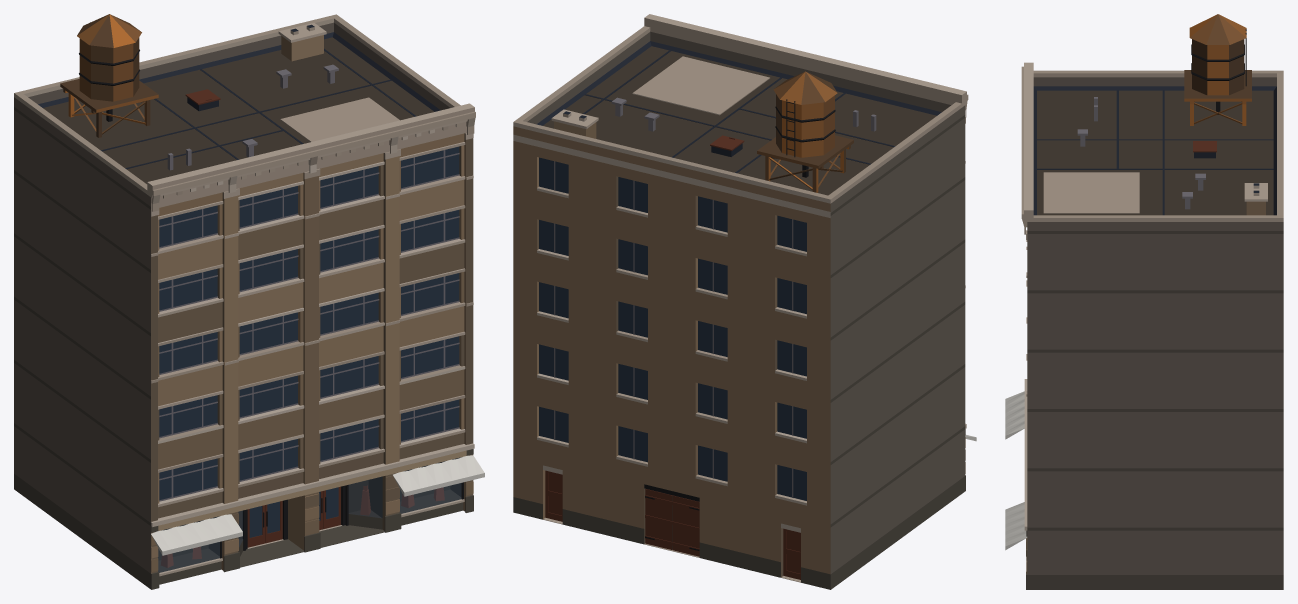
Rendered from department-store-ffbd58.glb.
3 renders of one model, left to right at view 1: azimuth 30°, elevation 25°; view 2: azimuth 150°, elevation 25°; view 3: azimuth 270°, elevation 25°, orthographic. The views are drawn at different scales.
Parts seen in each view (by area): view 1: store, water-tank-timber, awnings-canvas, shop-glass, door-l2-leaf, door-r2-leaf, door-l1-leaf; view 2: store, water-tank-timber; view 3: store, water-tank-timber, awnings-canvas.
Boxes of the visible parts, x1,y1,x2,y2 form: store: (14,14,475,589); water-tank-timber: (60,14,158,137); awnings-canvas: (151,455,484,555); shop-glass: (158,457,461,572); door-l2-leaf: (247,505,264,547); door-r2-leaf: (323,486,340,528); door-l1-leaf: (265,501,282,543); store: (513,14,968,589); water-tank-timber: (757,71,853,192); store: (1021,62,1283,589); water-tank-timber: (1184,14,1251,125); awnings-canvas: (1005,391,1027,550).
Size of the model in its own units: 16 by 23.06 by 12.75.
